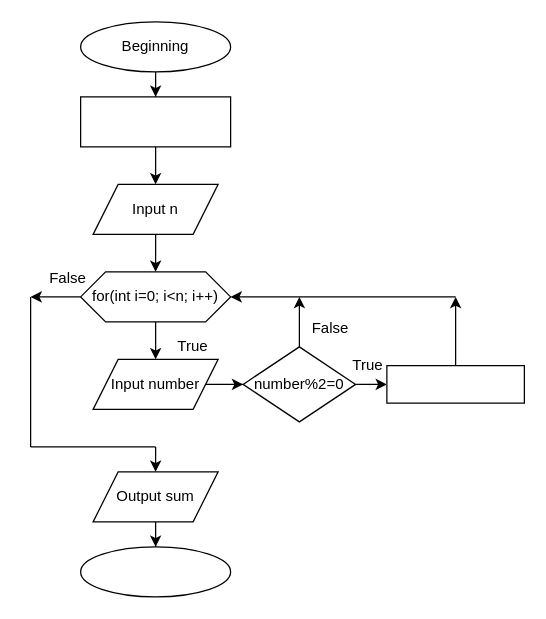
This 546x619 diagram has some shape labels left out. The centre of each missing label's shape, as x and y in pixels:
"End" belongs at point (155, 571).
"int n, number, sum=0" belongs at point (155, 121).
"sum=sum+number" belongs at point (455, 383).
